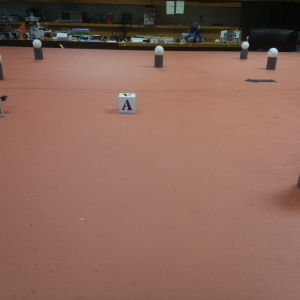blockA: (109, 88, 143, 120)
obstacle: (151, 45, 169, 70), (263, 47, 281, 70), (237, 38, 253, 61), (32, 38, 46, 62)
start: (240, 75, 279, 87)
